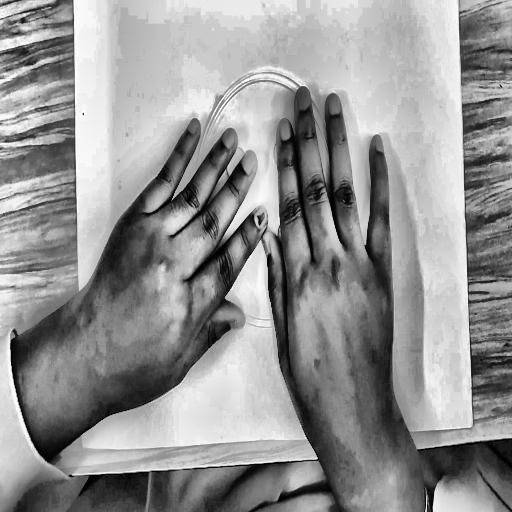bottom_left: (79, 440, 87, 454)
bottom_right: (469, 418, 477, 431)
button: (183, 60, 359, 347)
